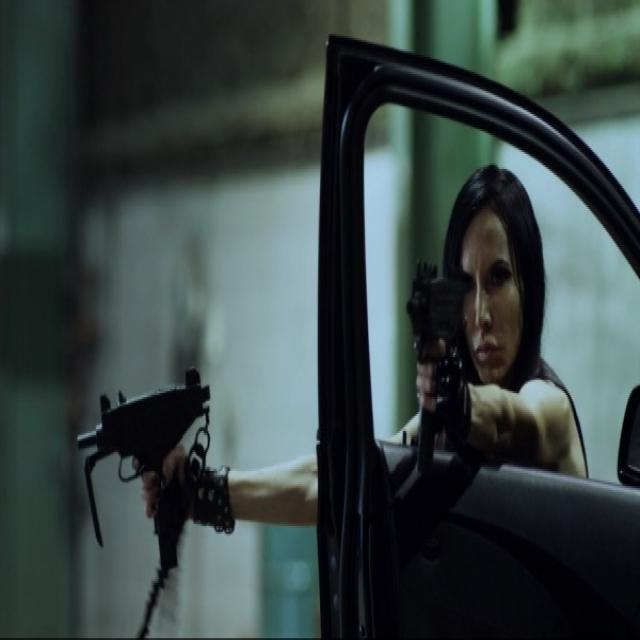rifle: (73, 363, 223, 554)
